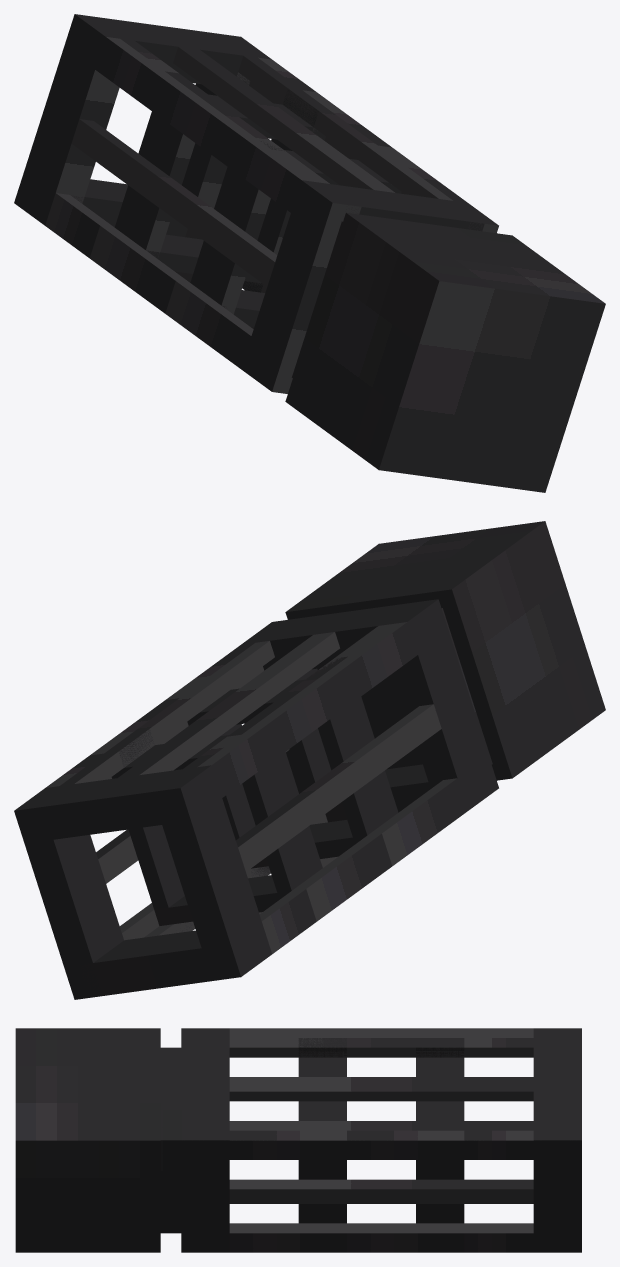
Rendered from cmb_manticore.geo.fbx.
The picture shows the model from 3 angles, top to bottom: view 1: azimuth 30°, elevation 25°; view 2: azimuth 150°, elevation 25°; view 3: azimuth 270°, elevation 25°; orthographic projection. The views are drawn at different scales.
Parts seen in each view (by area): view 1: gun; view 2: gun; view 3: gun.
Boxes of the visible parts, left/top/right/bottom form: gun: left=14, top=14, right=605, bottom=492; gun: left=14, top=521, right=605, bottom=999; gun: left=15, top=1028, right=581, bottom=1252.
Bounding box in the file's own units: 18.42 × 18.42 × 53.59.
Materials: 1 (1 with a texture image).
